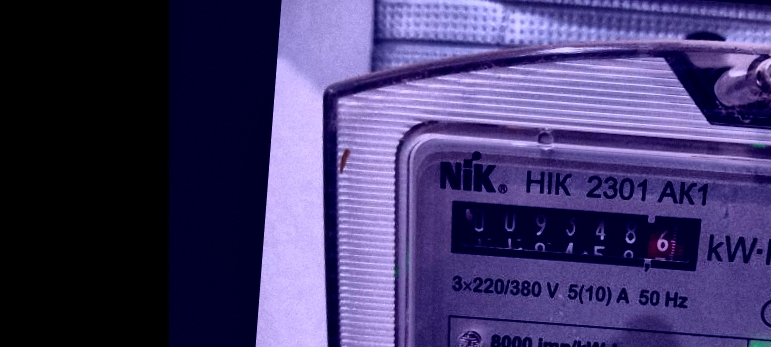0: (501, 208, 518, 232), (471, 206, 486, 233)
3: (562, 212, 578, 239)
4: (592, 214, 608, 242)
6: (653, 226, 672, 254)
8: (622, 217, 639, 246)
9: (531, 211, 548, 238)
screen: (438, 192, 711, 281)
